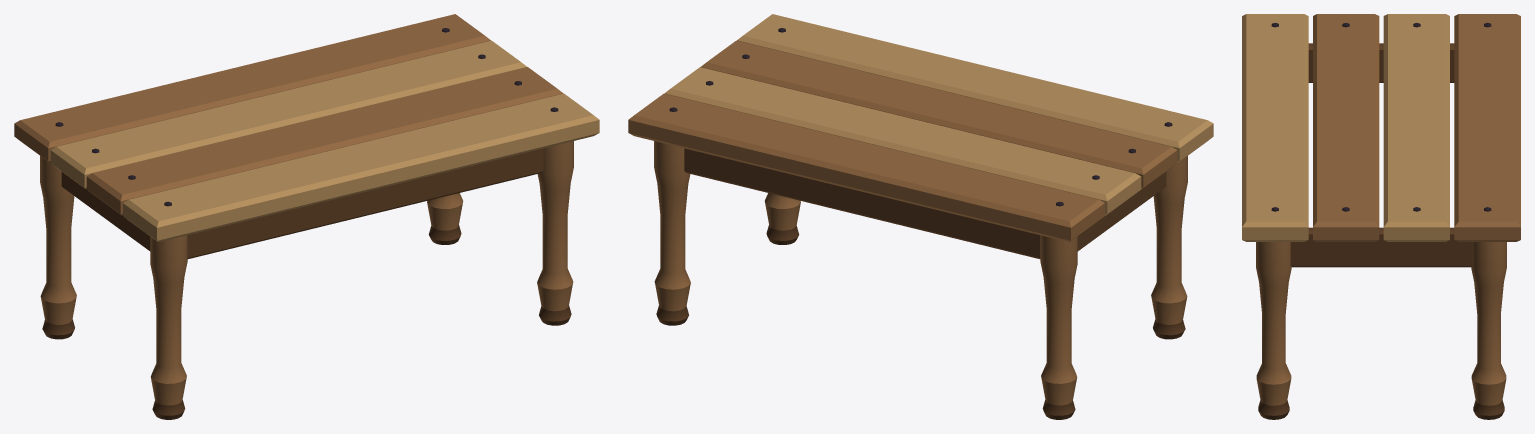
Rendered from Table_12.glb.
The picture shows the model from 3 angles, left to right: view 1: azimuth 30°, elevation 25°; view 2: azimuth 150°, elevation 25°; view 3: azimuth 270°, elevation 25°; orthographic projection. The views are drawn at different scales.
Visible parts, largest first — view 1: Table_12; view 2: Table_12; view 3: Table_12.
Part boxes in pixels (x1,y1,x2,y2): Table_12: (14,14,599,419); Table_12: (628,14,1213,419); Table_12: (1242,14,1520,419).
Bounding box in the file's own units: 7.05 × 3.22 × 3.94.
